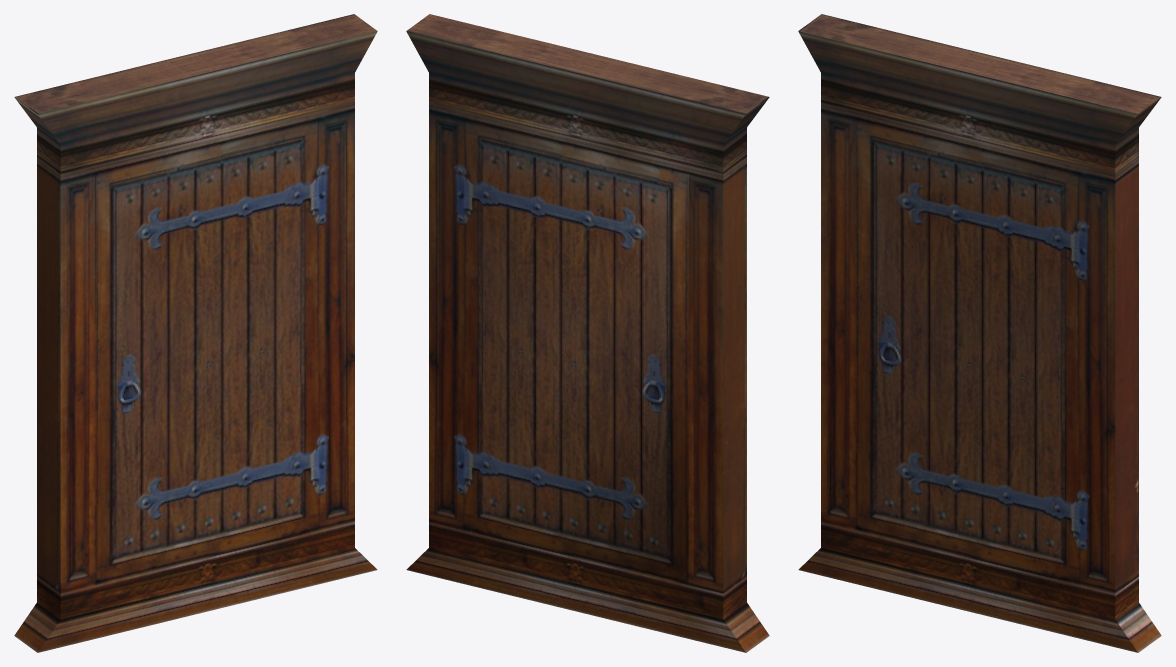
Rendered from door.fbx.
3 renders of one model, left to right at view 1: azimuth 30°, elevation 25°; view 2: azimuth 150°, elevation 25°; view 3: azimuth 330°, elevation 25°, orthographic.
Parts seen in each view (by area): view 1: door, door_flame; view 2: door, door_flame; view 3: door, door_flame.
Boxes of the visible parts, x1=… form: door: x1=95, y1=119, x2=319, y2=583; door_flame: x1=14, y1=14, x2=377, y2=652; door: x1=464, y1=119, x2=688, y2=583; door_flame: x1=406, y1=14, x2=769, y2=652; door: x1=855, y1=119, x2=1079, y2=583; door_flame: x1=798, y1=14, x2=1161, y2=652.
Size of the model in its own units: 99.82 by 151 by 11.93.
